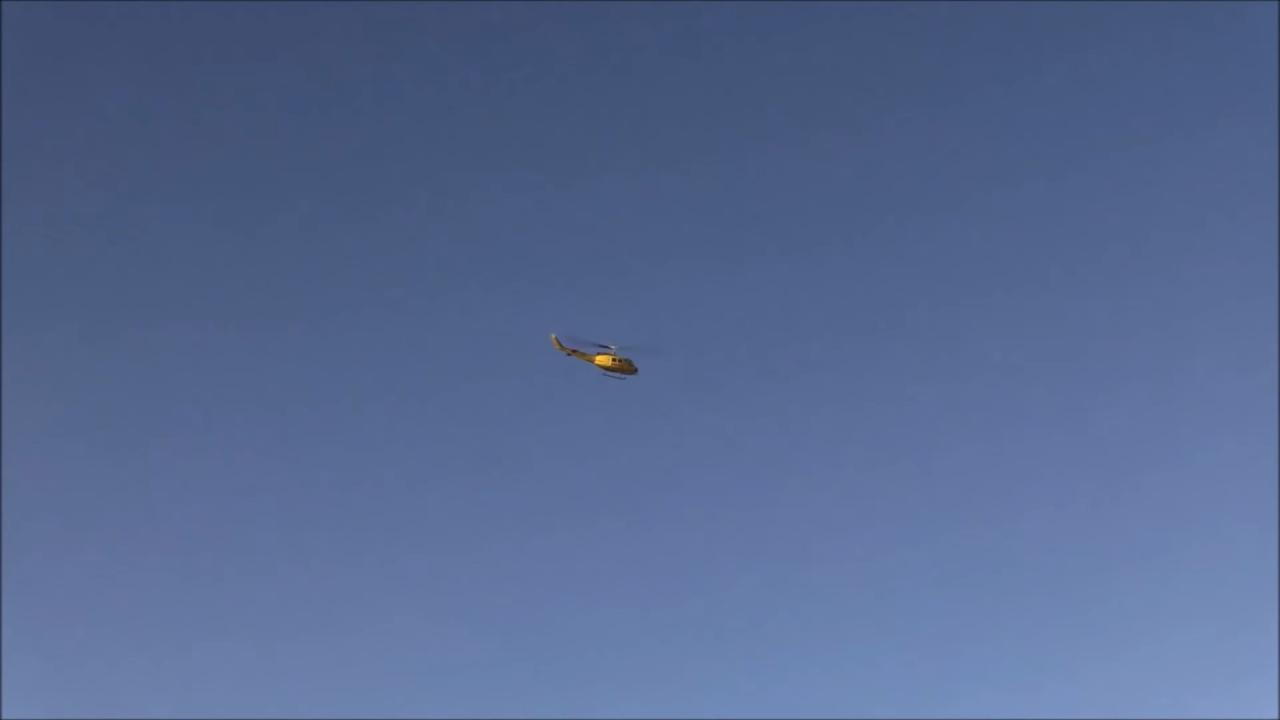Helicopter: (539, 318, 649, 386)
